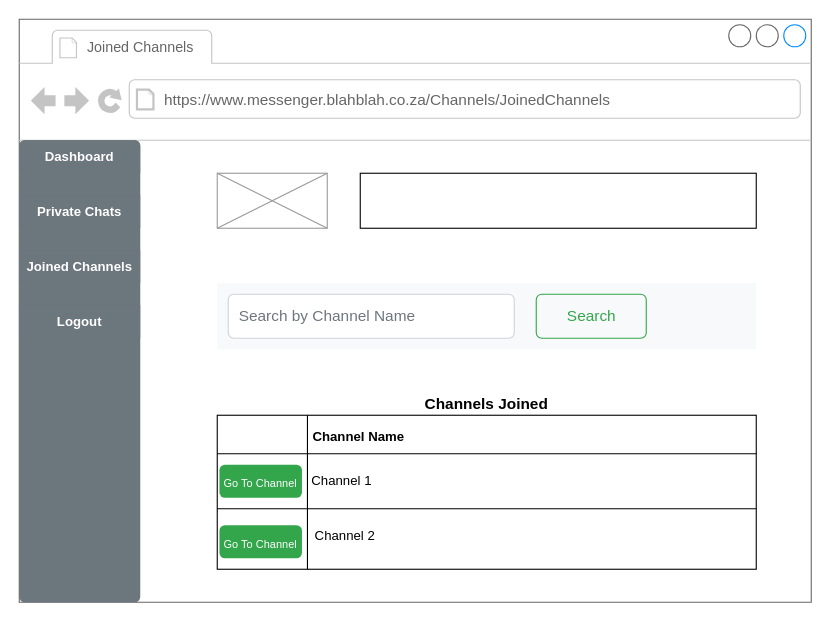
Some shapes in this 831 by 622 pixel diagram are drawn without their labels. The shapes that lost their labels are listed below. From the top down, each one's centre as x and y in pixels, then its label:
At [271,200]: "Icon".
At [557,200]: "Joined Channels Title".
